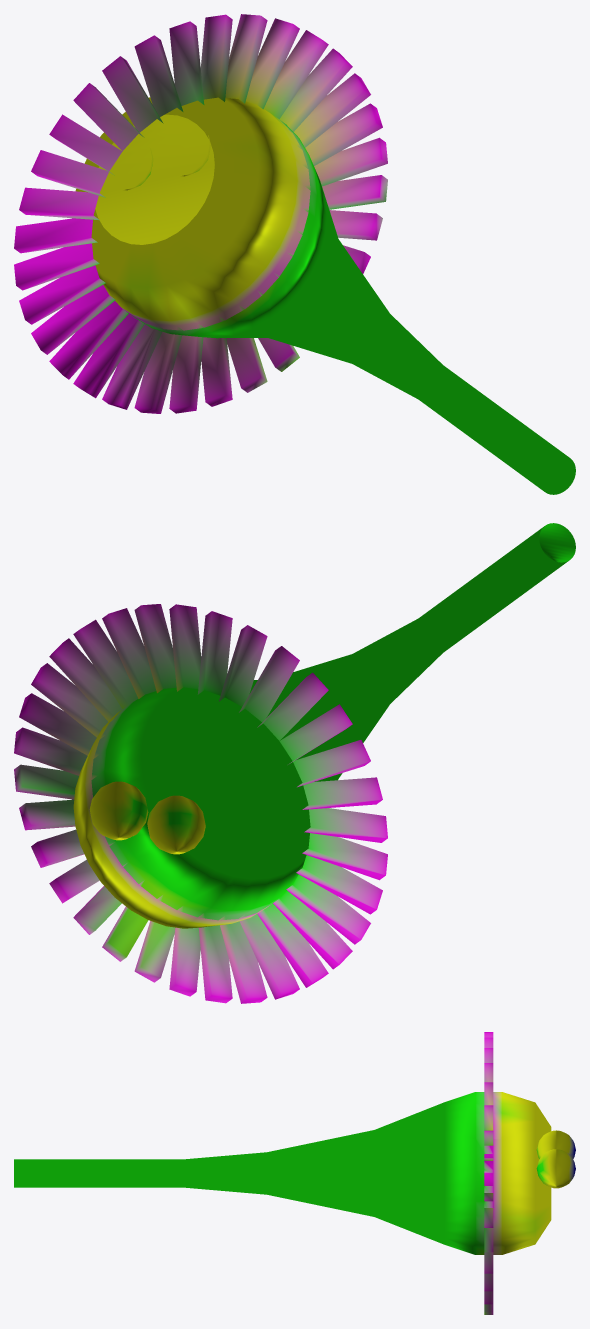
File: blossom.glb
3 renders of one model, top to bottom at view 1: azimuth 30°, elevation 25°; view 2: azimuth 150°, elevation 25°; view 3: azimuth 270°, elevation 25°, orthographic. The views are drawn at different scales.
Visible parts, largest first — view 1: Blossom; view 2: Blossom; view 3: Blossom.
Part boxes in pixels (x1,y1,x2,y2): Blossom: (14,14,575,494); Blossom: (14,523,575,1003); Blossom: (14,1032,575,1314).
Size of the model in its own units: 1.06 by 0.9137 by 1.82.
